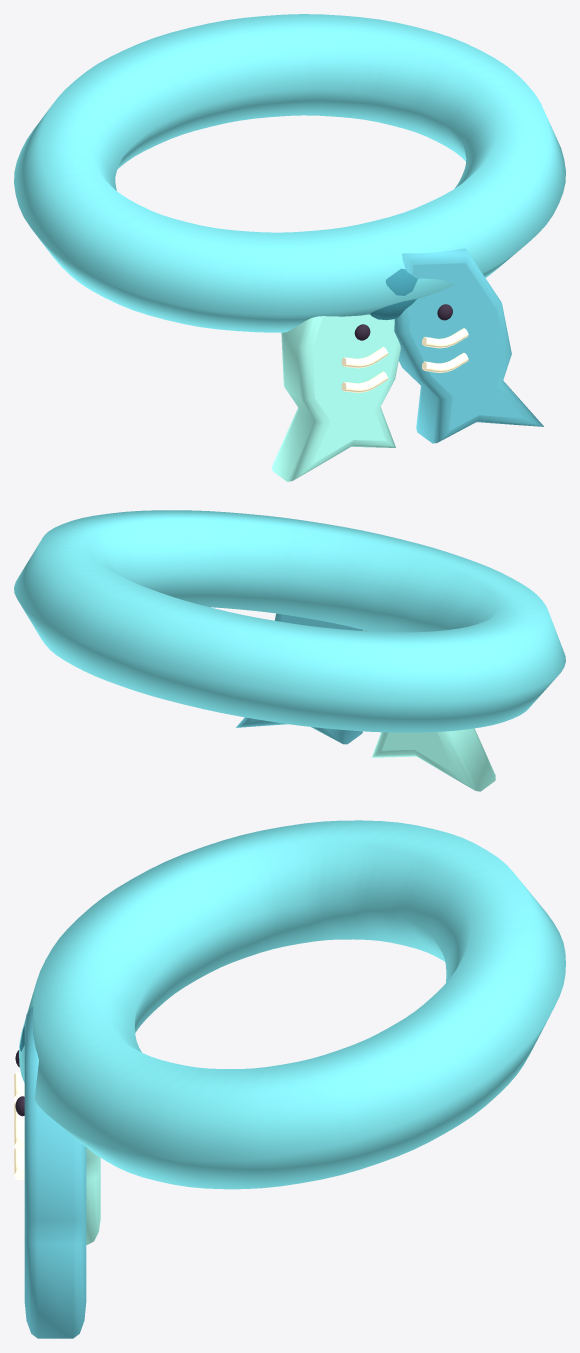
Rendered from sardine_scarf.glb.
The picture shows the model from 3 angles, top to bottom: view 1: azimuth 30°, elevation 25°; view 2: azimuth 150°, elevation 25°; view 3: azimuth 270°, elevation 25°; orthographic projection. The views are drawn at different scales.
Visible parts, largest first — view 1: Sardine Scarf; view 2: Sardine Scarf; view 3: Sardine Scarf.
Boxes of the visible parts, box(x1,y1,x2,y2) form: Sardine Scarf: box(14, 14, 565, 481); Sardine Scarf: box(14, 510, 565, 791); Sardine Scarf: box(14, 820, 565, 1338).
Bounding box in the file's own units: 1 × 0.5386 × 0.8059.
